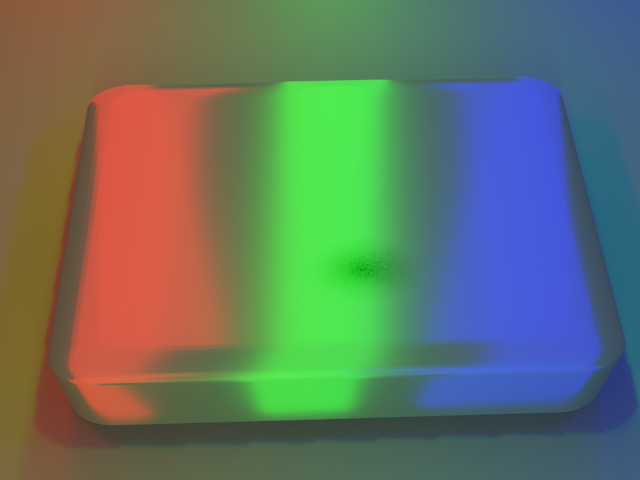stain: (258, 220, 467, 345)
